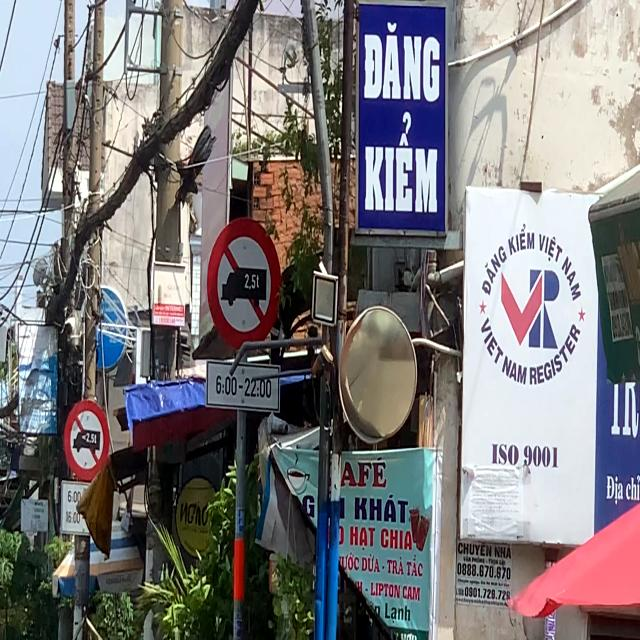P.106b: (203, 209, 290, 348), (56, 393, 110, 482)
